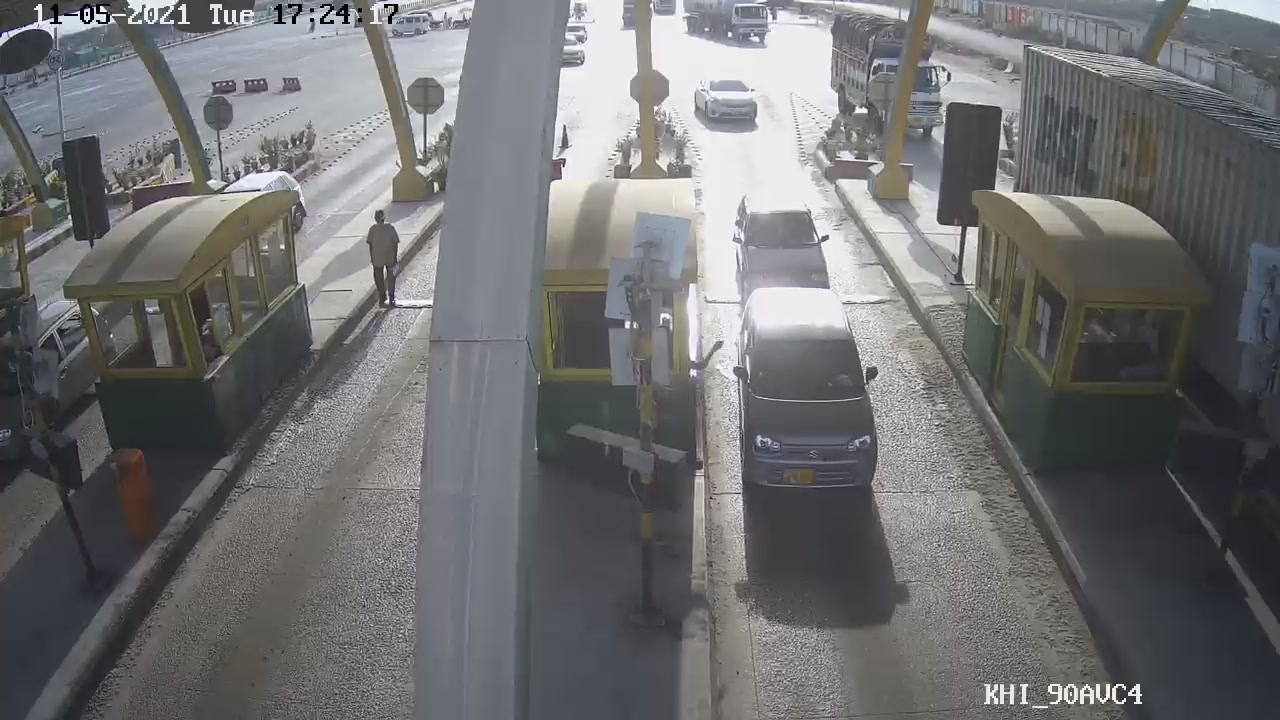F1: (717, 283, 900, 504)
